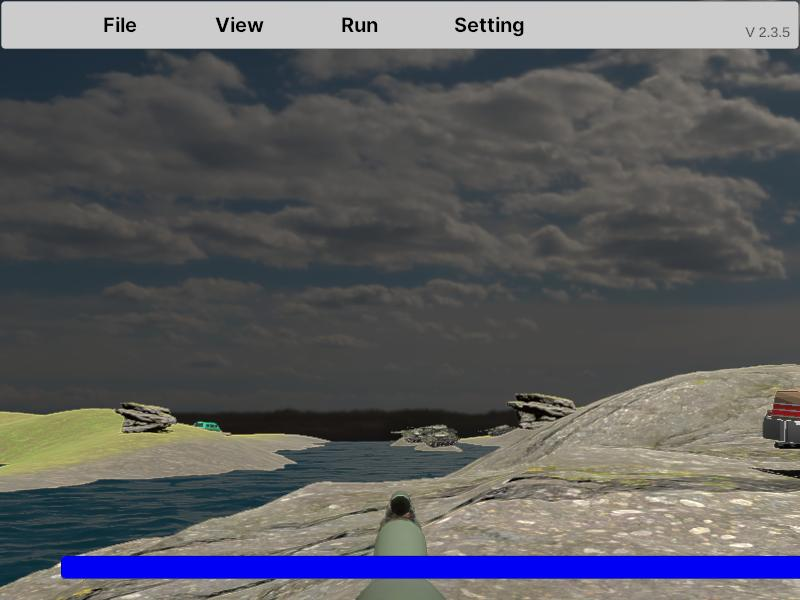Tank: (422, 429, 459, 447)
car: (762, 375, 800, 450)
